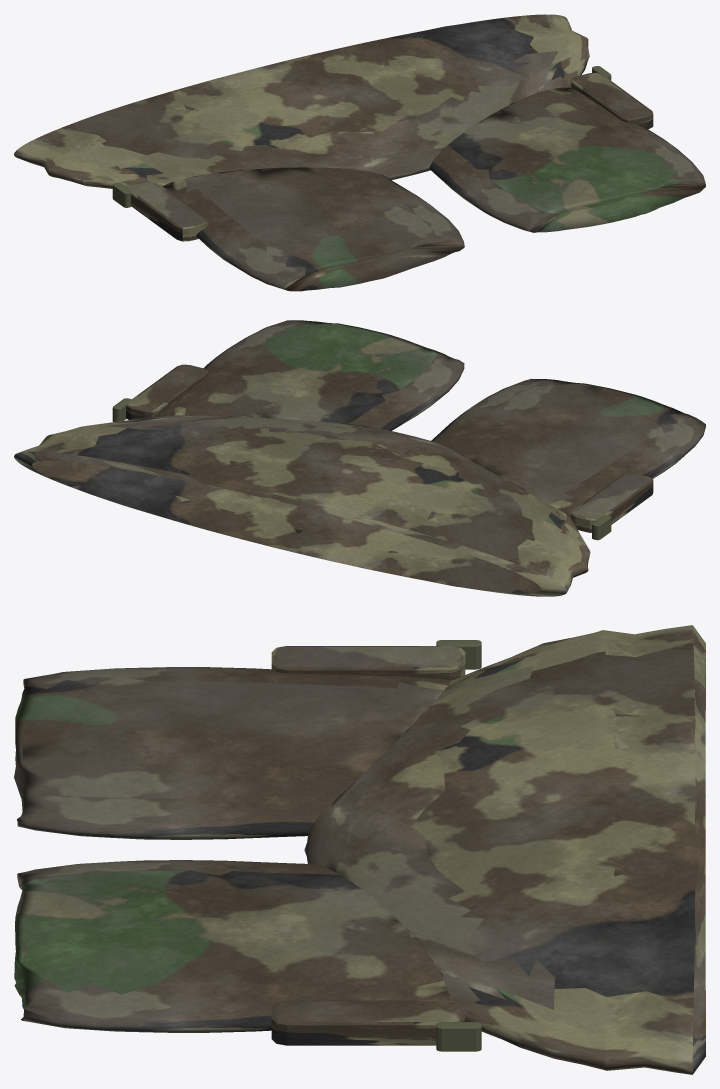
The model's file is cargo2.fbx.
3 renders of one model, top to bottom at view 1: azimuth 30°, elevation 25°; view 2: azimuth 150°, elevation 25°; view 3: azimuth 270°, elevation 25°, orthographic. The views are drawn at different scales.
Parts seen in each view (by area): view 1: cargo2; view 2: cargo2; view 3: cargo2.
Part boxes in pixels (box(x1,y1,x2,y2)): cargo2: box(14, 14, 705, 291); cargo2: box(14, 320, 705, 596); cargo2: box(14, 625, 705, 1074).
Size of the model in its own units: 0.8085 by 0.0744 by 0.5358.
2 materials, 1 textured.
